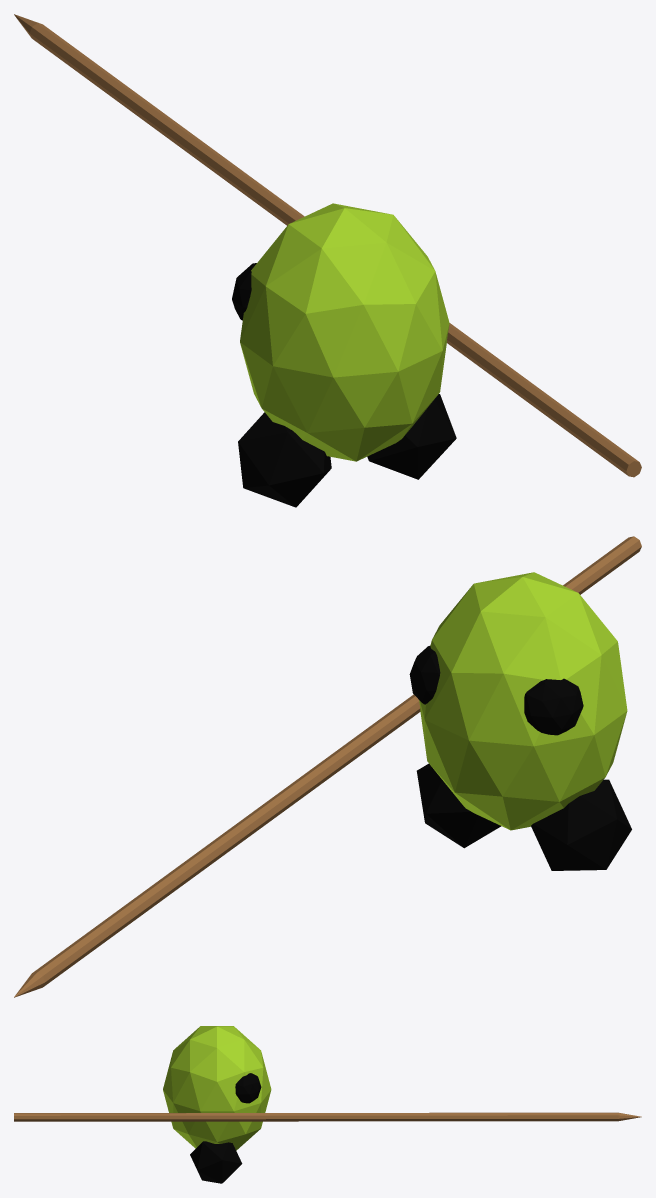
File: walk.f0002.glb
The picture shows the model from 3 angles, top to bottom: view 1: azimuth 30°, elevation 25°; view 2: azimuth 150°, elevation 25°; view 3: azimuth 270°, elevation 25°; orthographic projection. The views are drawn at different scales.
Parts seen in each view (by area): view 1: Body.001; view 2: Body.001; view 3: Body.001.
Boxes of the visible parts, x1,y1,x2,y2 form: Body.001: [14, 14, 641, 507]; Body.001: [14, 536, 641, 997]; Body.001: [14, 1026, 641, 1183].
Bounding box in the file's own units: 2.17 × 2.86 × 11.56.
Materials: 1 (1 with a texture image).
